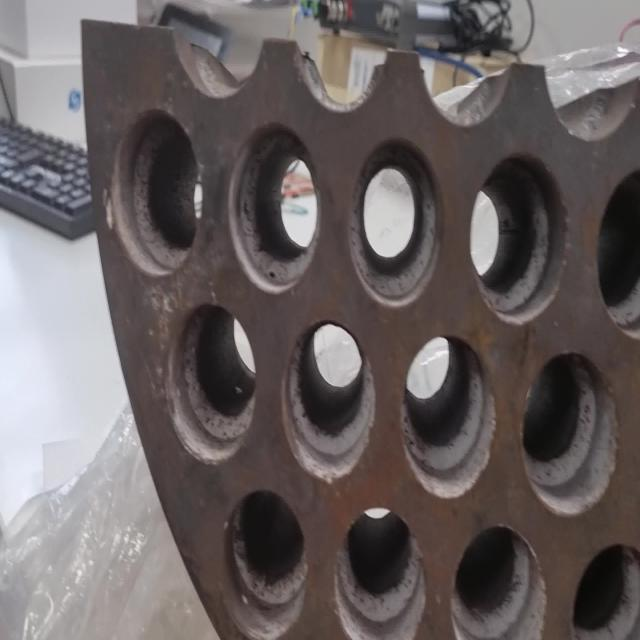Hole: (469, 151, 569, 326), (520, 349, 620, 519), (346, 136, 443, 309), (105, 108, 204, 277), (227, 121, 322, 295), (401, 334, 497, 501), (281, 318, 377, 483), (166, 302, 256, 464), (223, 488, 308, 640), (333, 506, 428, 640), (452, 523, 548, 639), (596, 165, 640, 338), (570, 541, 640, 639)
